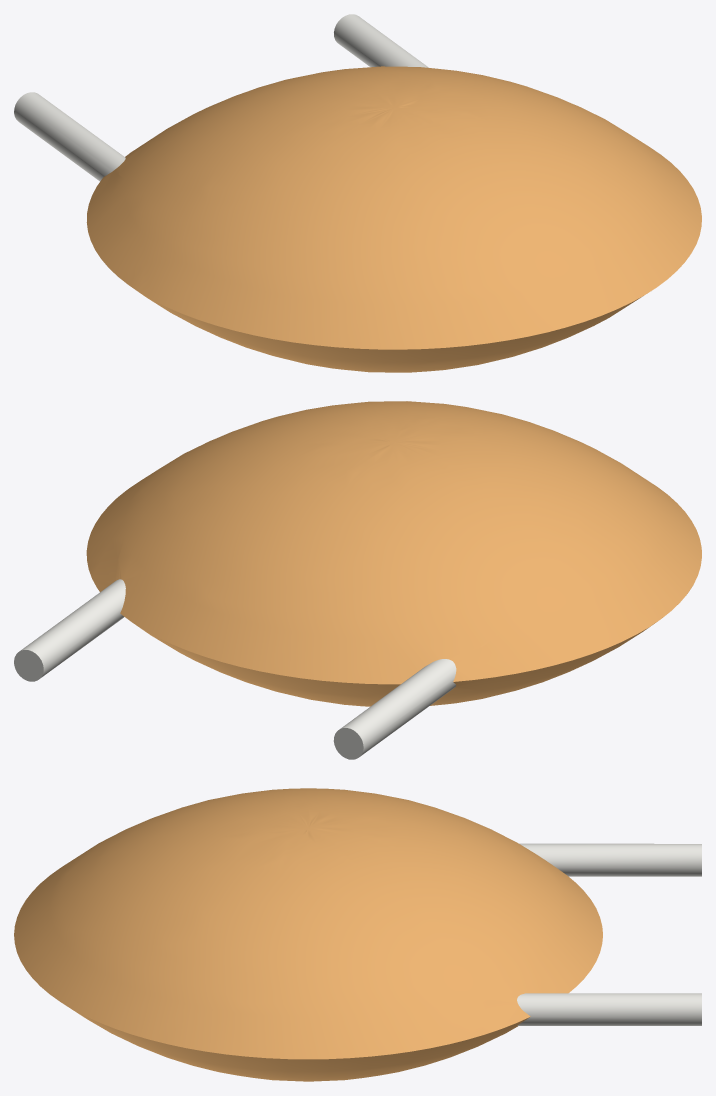
File: C_Disc_D12.5mm_W5.0mm_P7.50mm.glb
3 renders of one model, top to bottom at view 1: azimuth 30°, elevation 25°; view 2: azimuth 150°, elevation 25°; view 3: azimuth 270°, elevation 25°, orthographic. The views are drawn at different scales.
Visible parts, largest first — view 1: Shape_IndexedFaceSet.002, Shape_IndexedFaceSet.003, Shape_IndexedFaceSet.004, Shape_IndexedFaceSet.001; view 2: Shape_IndexedFaceSet.002, Shape_IndexedFaceSet.003, Shape_IndexedFaceSet.004, Shape_IndexedFaceSet.001, Shape_IndexedFaceSet, Shape_IndexedFaceSet.005; view 3: Shape_IndexedFaceSet.002, Shape_IndexedFaceSet.003, Shape_IndexedFaceSet.001, Shape_IndexedFaceSet.004.
Boxes of the visible parts, <box> form: Shape_IndexedFaceSet.002: <box>86,66,701,349</box>; Shape_IndexedFaceSet.003: <box>136,290,642,372</box>; Shape_IndexedFaceSet.004: <box>14,92,125,181</box>; Shape_IndexedFaceSet.001: <box>334,14,428,67</box>; Shape_IndexedFaceSet.002: <box>86,401,701,684</box>; Shape_IndexedFaceSet.003: <box>135,623,654,706</box>; Shape_IndexedFaceSet.004: <box>340,659,456,756</box>; Shape_IndexedFaceSet.001: <box>19,579,125,677</box>; Shape_IndexedFaceSet: <box>14,650,43,681</box>; Shape_IndexedFaceSet.005: <box>333,728,363,759</box>; Shape_IndexedFaceSet.002: <box>14,788,602,1059</box>; Shape_IndexedFaceSet.003: <box>38,984,529,1081</box>; Shape_IndexedFaceSet.001: <box>517,993,701,1025</box>; Shape_IndexedFaceSet.004: <box>519,843,701,876</box>.
Size of the model in its own units: 4.92 by 1.97 by 5.75.
